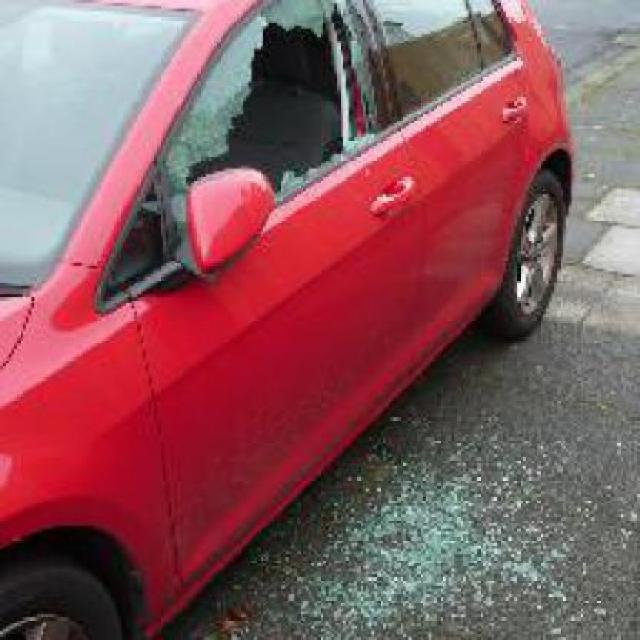damaged-window: (146, 1, 386, 222)
